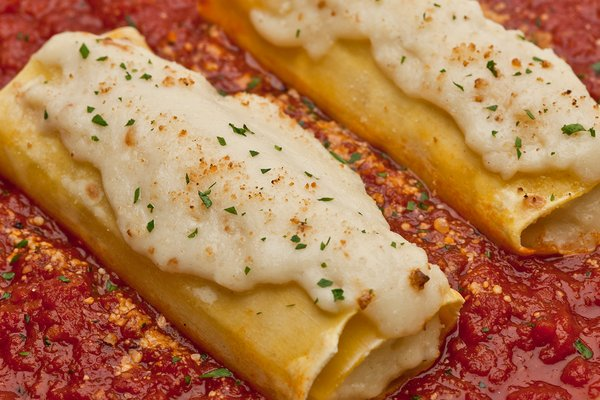pasta: (193, 0, 600, 263)
